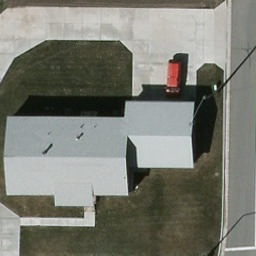car: (164, 60, 183, 102)
